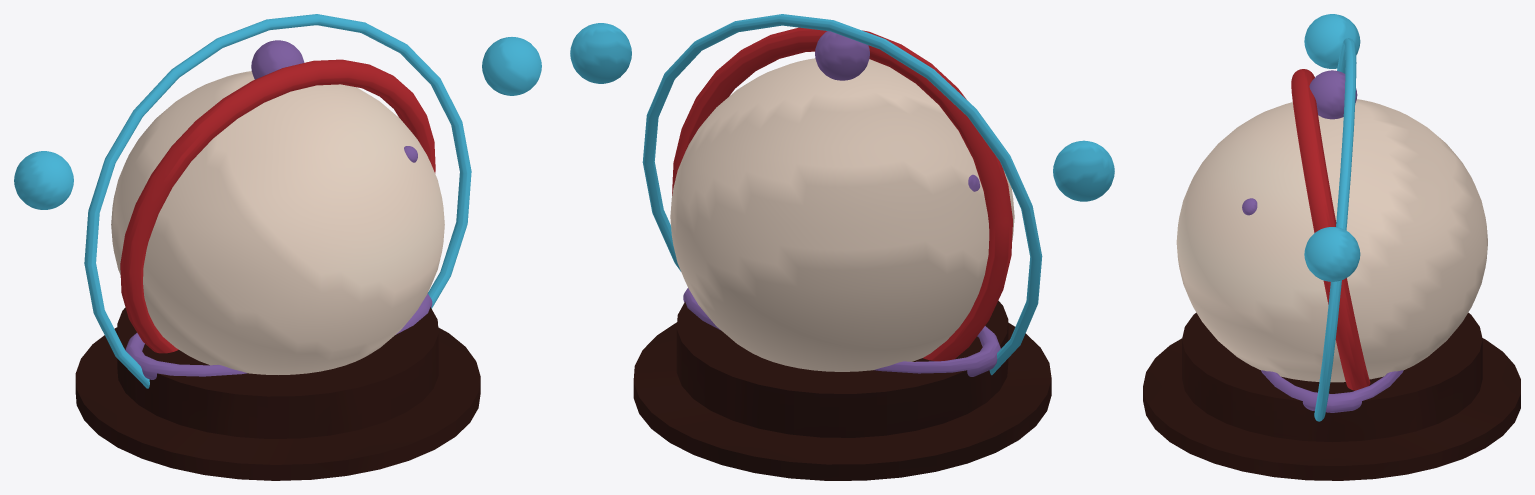
The model's file is 0039_天文图鉴_火星.glb.
3 renders of one model, left to right at view 1: azimuth 30°, elevation 25°; view 2: azimuth 150°, elevation 25°; view 3: azimuth 270°, elevation 25°, orthographic. The views are drawn at different scales.
Visible parts, largest first — view 1: card_0039; view 2: card_0039; view 3: card_0039.
Part boxes in pixels (left/top/right/bottom): card_0039: left=14, top=14, right=541, bottom=480; card_0039: left=570, top=14, right=1114, bottom=480; card_0039: left=1143, top=14, right=1520, bottom=480.
Bounding box in the file's own units: 1.43 × 1 × 0.9656.
